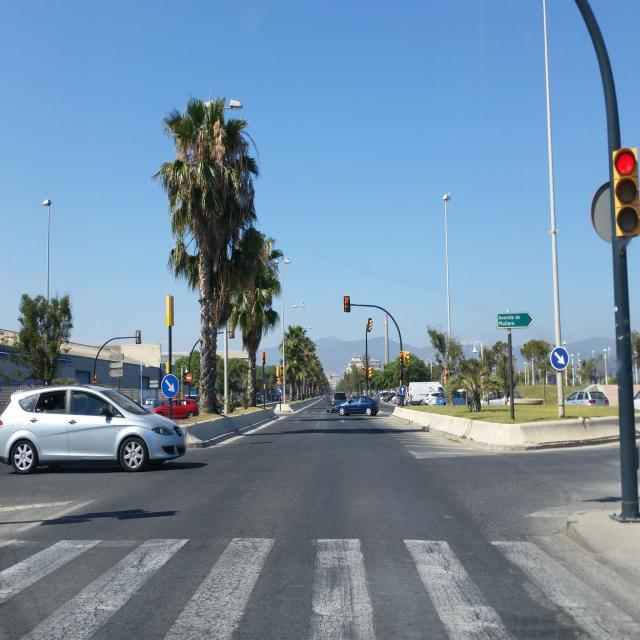car: (0, 384, 187, 474), (152, 398, 199, 420), (337, 395, 379, 417), (562, 389, 610, 407), (330, 391, 347, 413)
